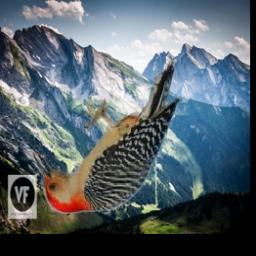Woodpecker: (31, 57, 183, 215)
